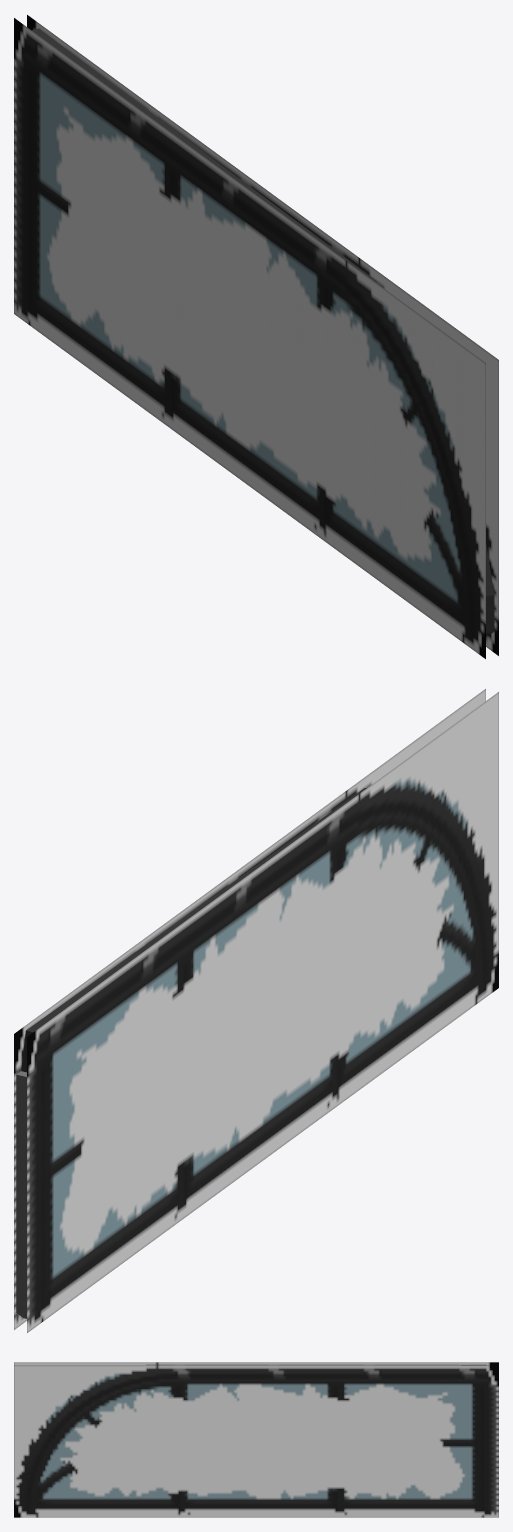
The model's file is pz_native_fixtures_windows_metal_60_frame.obj.
3 renders of one model, top to bottom at view 1: azimuth 30°, elevation 25°; view 2: azimuth 150°, elevation 25°; view 3: azimuth 270°, elevation 25°, orthographic. The views are drawn at different scales.
Visible parts, largest first — view 1: pz_native_fixtures_windows_metal_60_frame; view 2: pz_native_fixtures_windows_metal_60_frame; view 3: pz_native_fixtures_windows_metal_60_frame.
Boxes of the visible parts, x1,y1,x2,y2 form: pz_native_fixtures_windows_metal_60_frame: (14, 15, 498, 658); pz_native_fixtures_windows_metal_60_frame: (14, 689, 498, 1332); pz_native_fixtures_windows_metal_60_frame: (14, 1362, 498, 1517).
Bounding box in the file's own units: 0.04 × 0.875 × 2.53.
1 material, 1 textured.
